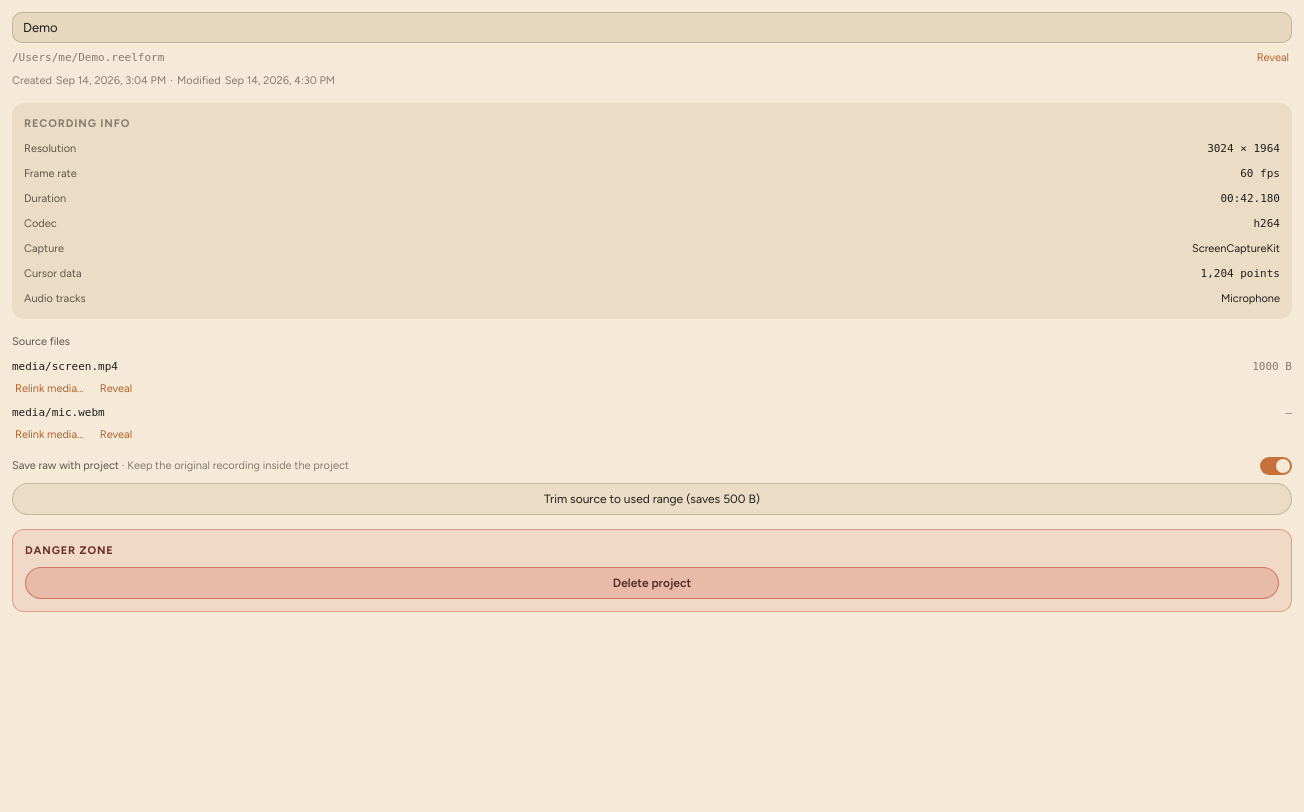
Test case: Project tab › trims the source and rewrites clips
This screenshot has width=1304, height=812.
Click the button "Trim source to used range (saves 500 B)" at (652, 499), box [12,483,1292,515]
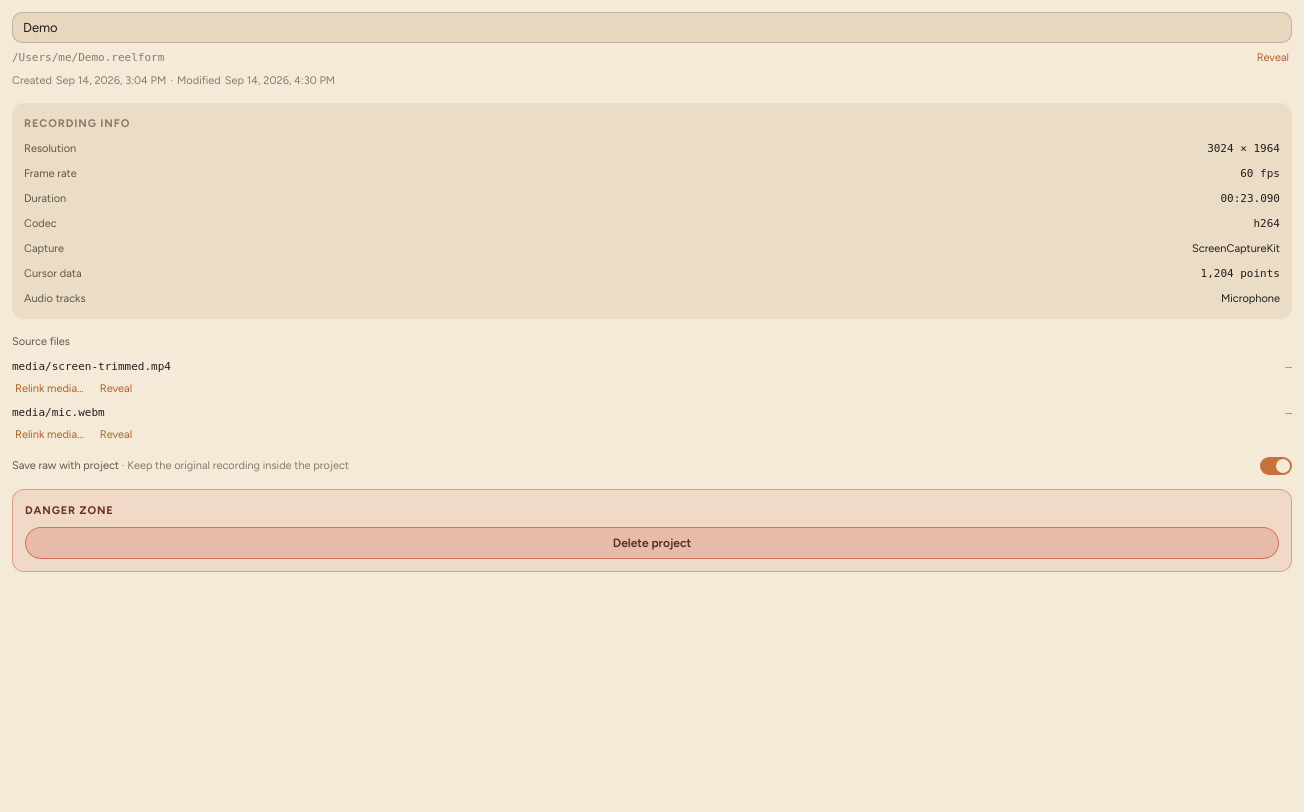
Expected: the text "media/screen-trimmed.mp4" is shown, [12,360,171,373]
